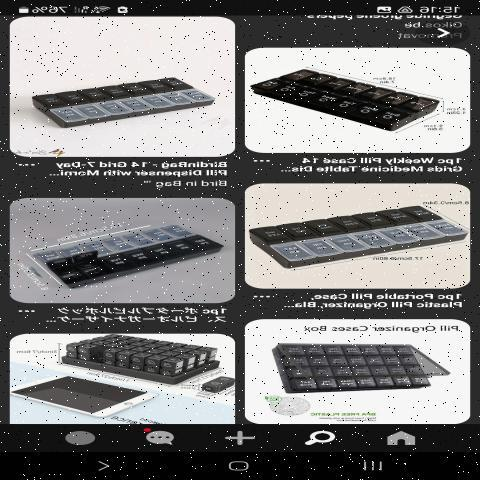PillBox: (247, 41, 457, 145), (245, 191, 468, 281), (15, 206, 226, 300), (22, 48, 222, 138), (259, 330, 458, 399), (68, 338, 222, 370)
